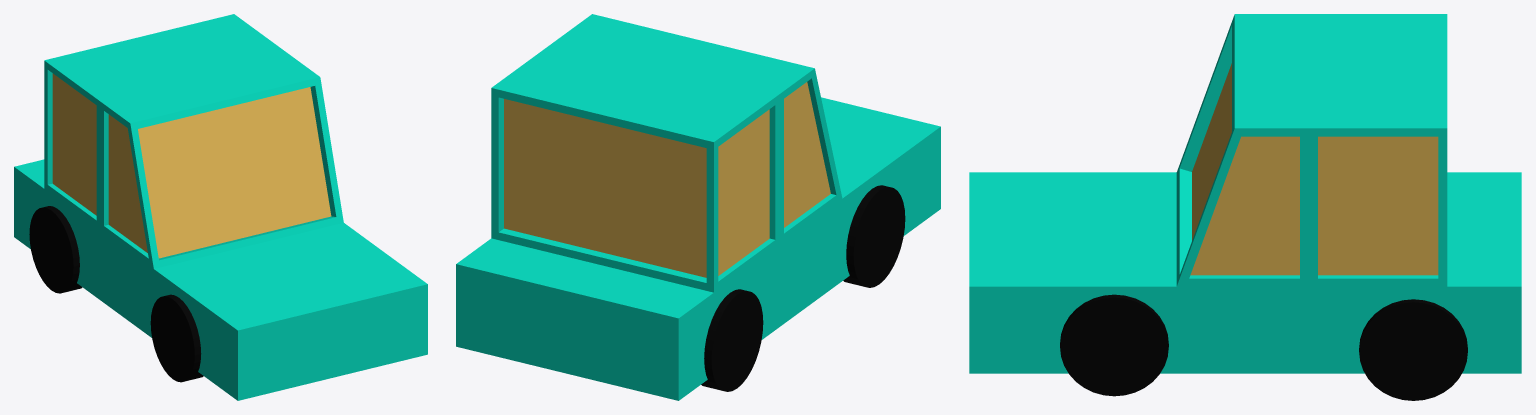
Rendered from mbl.fbx.
3 renders of one model, left to right at view 1: azimuth 30°, elevation 25°; view 2: azimuth 150°, elevation 25°; view 3: azimuth 270°, elevation 25°, orthographic. The views are drawn at different scales.
Parts seen in each view (by area): view 1: Cube, Cylinder.003, Cylinder.002; view 2: Cube, Cylinder.002, Cylinder.003; view 3: Cube, Cylinder.001, Cylinder.
Boxes of the visible parts, x1,y1,x2,y2 form: Cube: (14, 14, 427, 400); Cylinder.003: (29, 206, 82, 293); Cylinder.002: (150, 294, 203, 382); Cube: (456, 14, 940, 400); Cylinder.002: (843, 185, 905, 287); Cylinder.003: (701, 289, 763, 391); Cube: (969, 14, 1521, 373); Cylinder.001: (1359, 299, 1467, 400); Cylinder: (1060, 294, 1168, 396).
Size of the model in its own units: 212 by 220 by 408.
